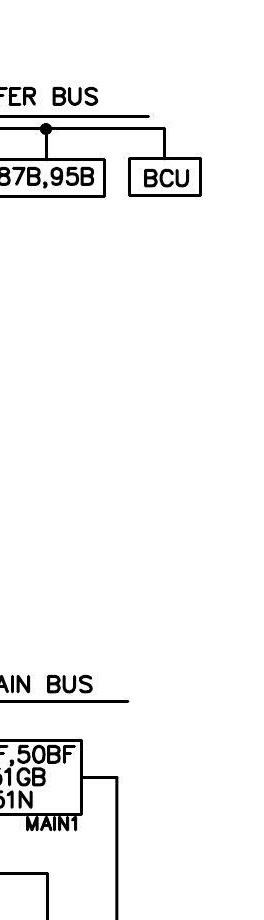BCU: (127, 156, 203, 198)
